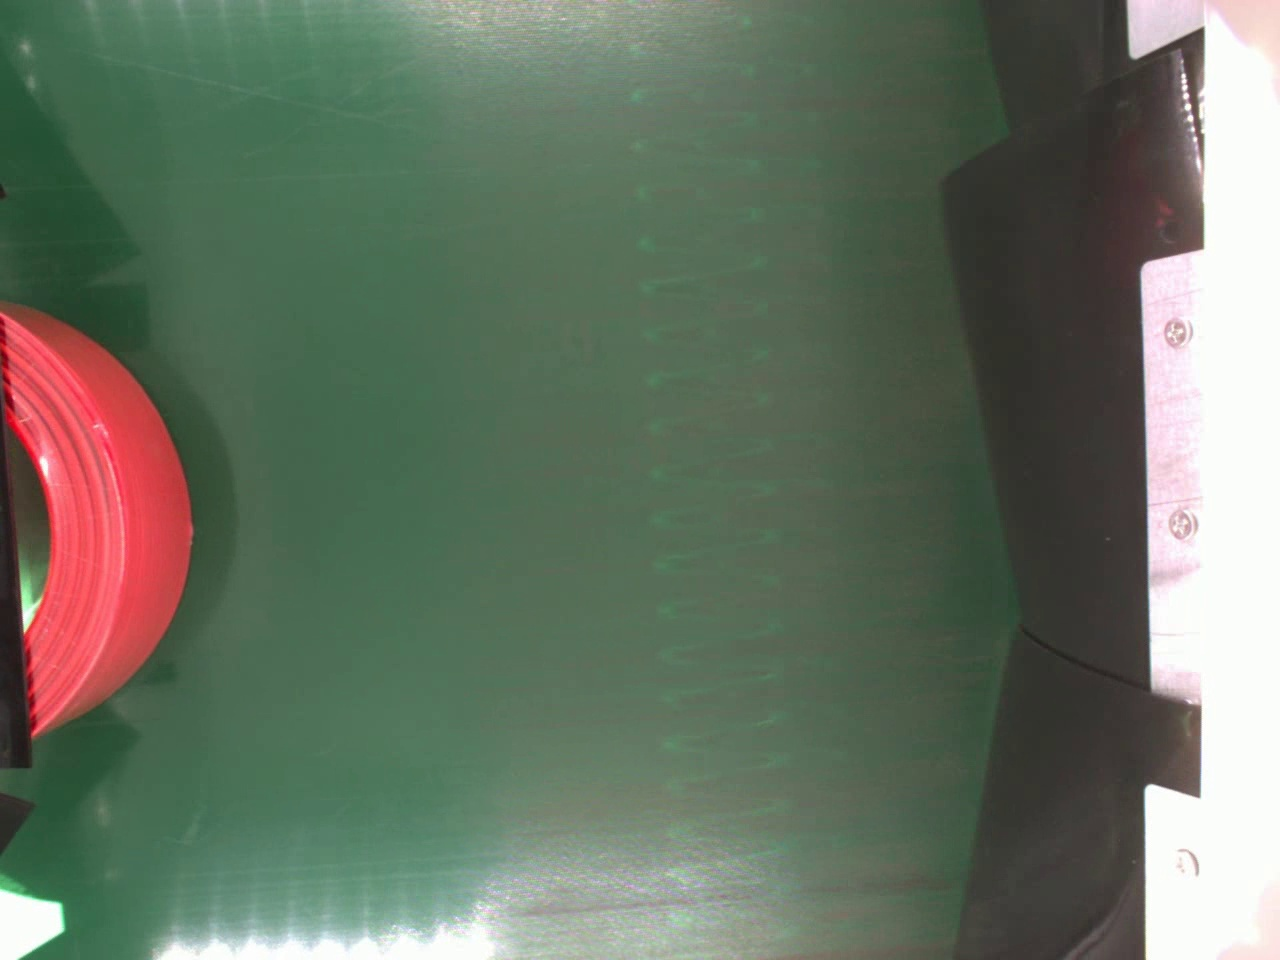red: (0, 301, 194, 740)
